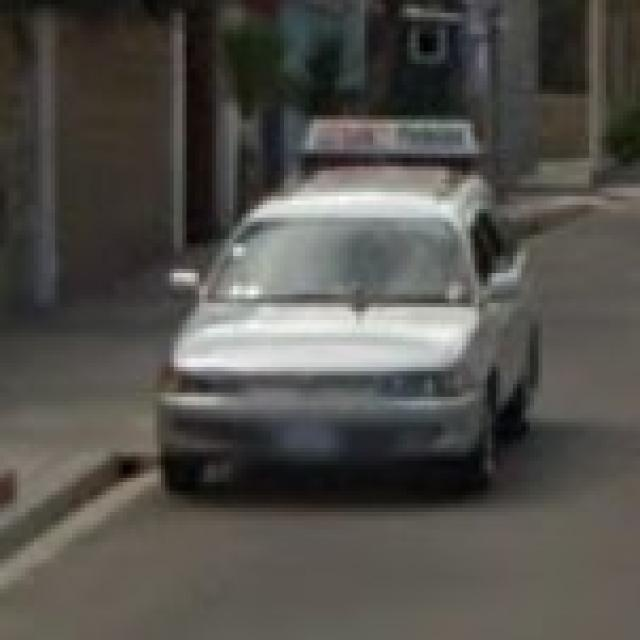Car: (168, 140, 542, 480)
